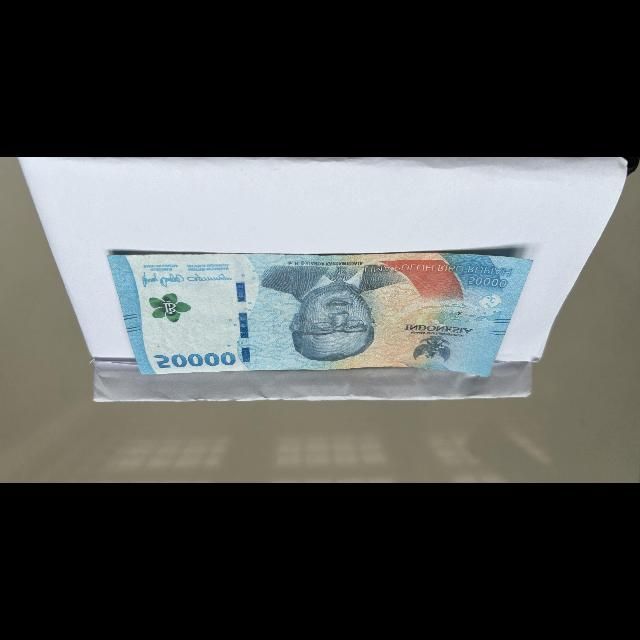Palsu-50k: (102, 252, 538, 380)
Tinta-Palsu-50k: (147, 290, 194, 326)
